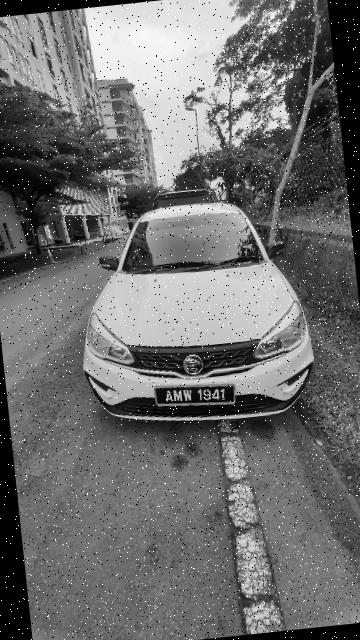License_Plate: (149, 375, 239, 418)
car: (63, 189, 329, 445)
